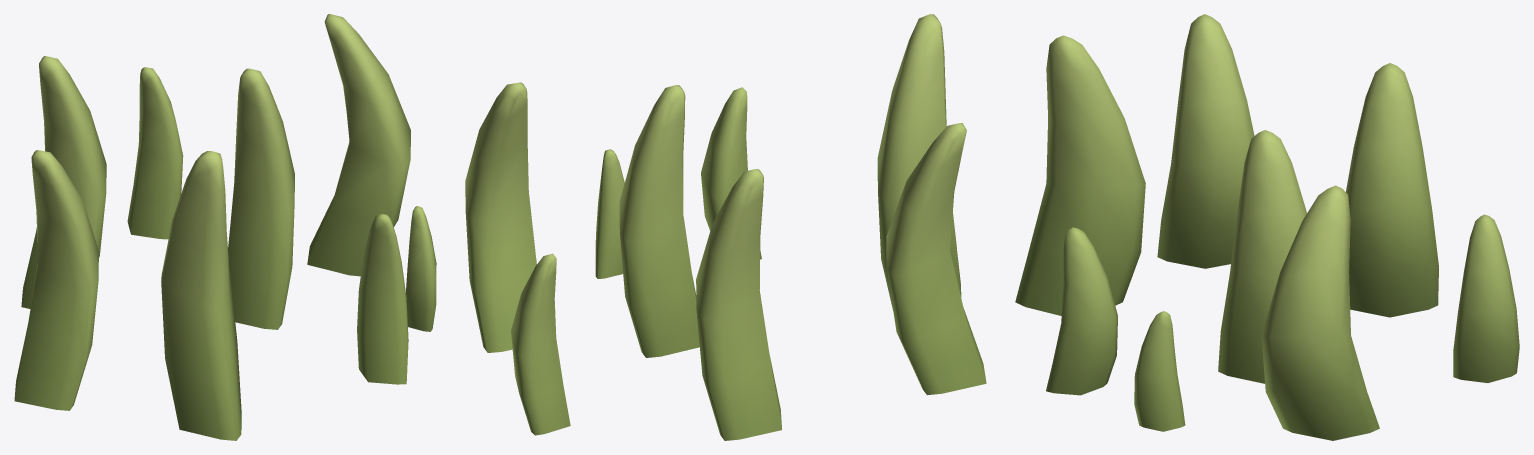
The model's file is Env_Nature_Grass.fbx.
The picture shows the model from 3 angles, left to right: view 1: azimuth 30°, elevation 25°; view 2: azimuth 150°, elevation 25°; view 3: azimuth 270°, elevation 25°; orthographic projection. The views are drawn at different scales.
Parts seen in each view (by area): view 1: Matinho_01; view 2: Matinho_01; view 3: Matinho_01.
Part boxes in pixels (left/top/right/bottom): Matinho_01: left=14, top=14, right=436, bottom=440; Matinho_01: left=465, top=14, right=986, bottom=440; Matinho_01: left=1015, top=14, right=1519, bottom=440.
Bounding box in the file's own units: 67.34 × 39 × 66.82.
